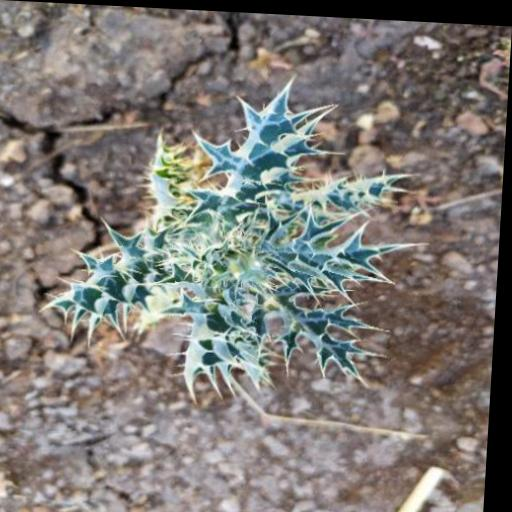weed: (42, 58, 424, 411)
